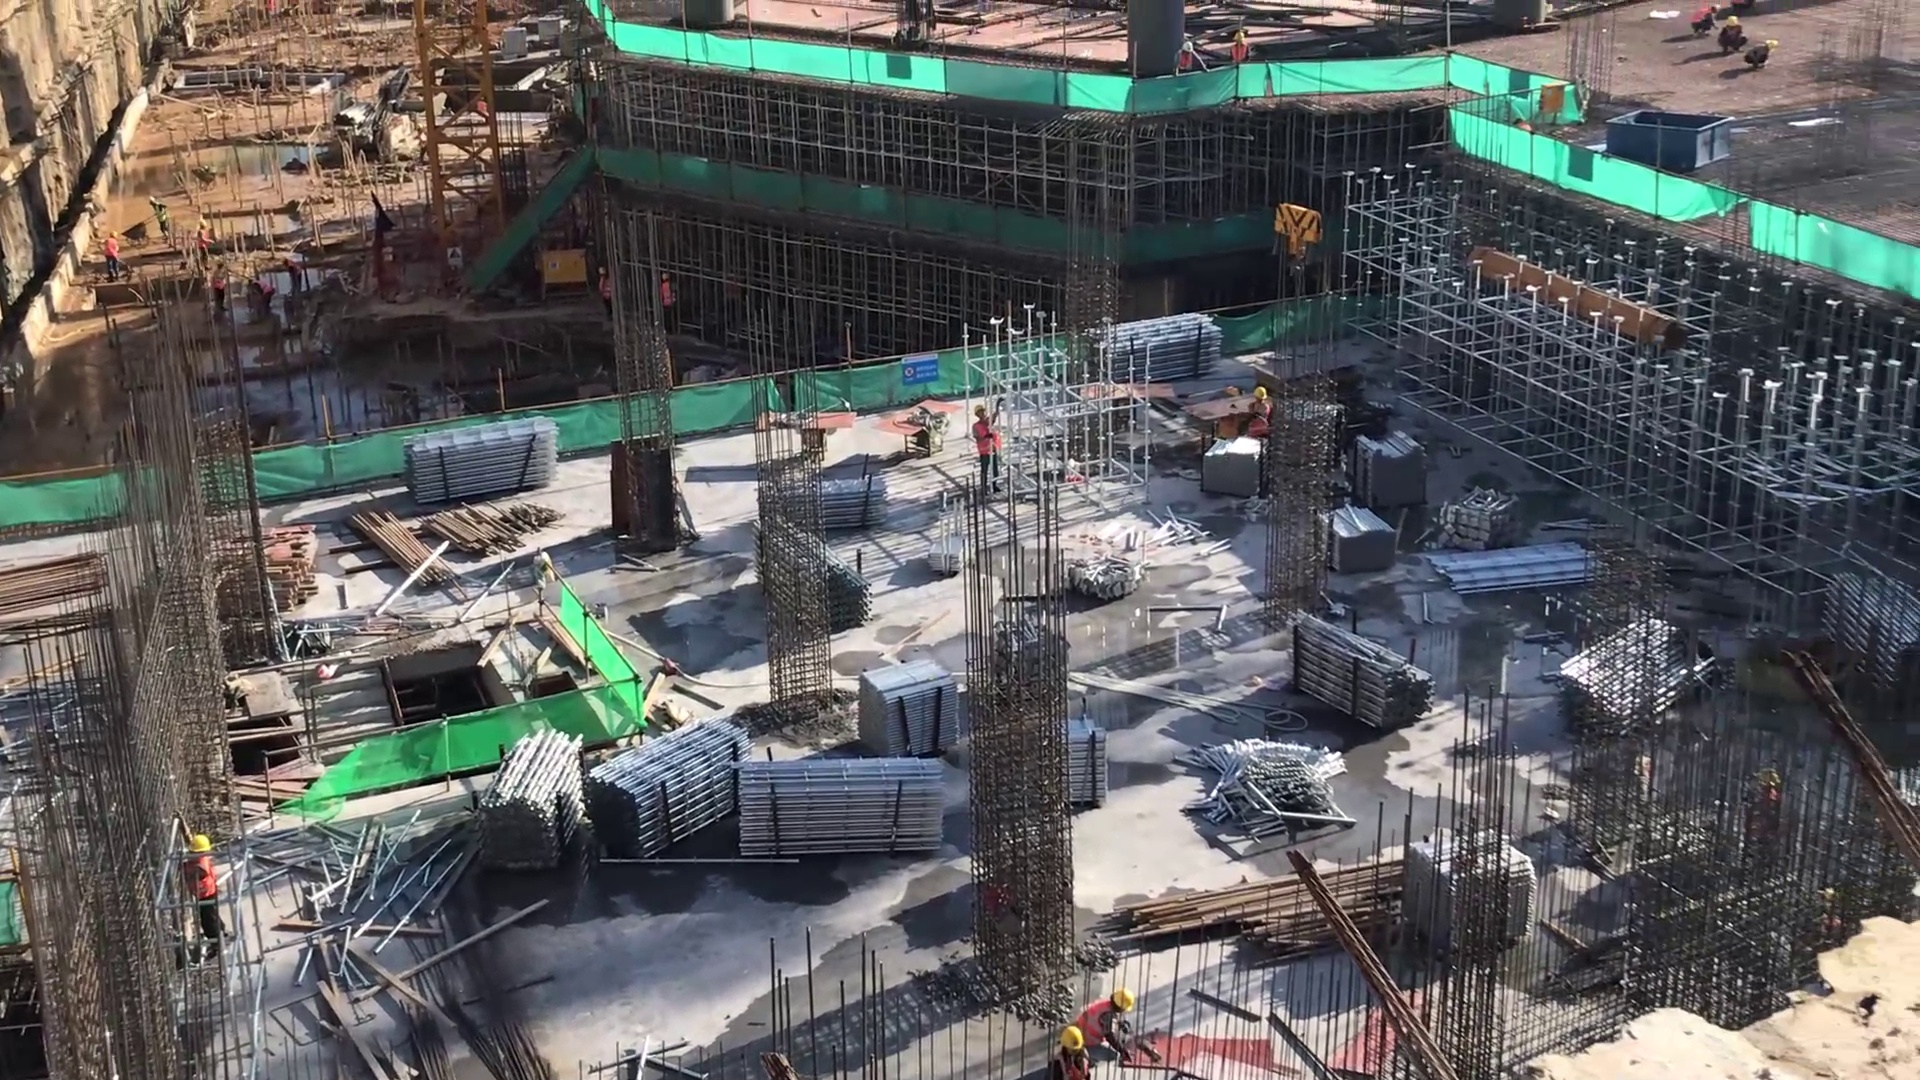cutter: (871, 395, 963, 459), (763, 409, 855, 462)
ebox: (531, 240, 596, 307)
helmet: (1054, 1024, 1089, 1056), (1107, 984, 1138, 1015), (184, 829, 212, 860), (1249, 386, 1272, 404), (970, 400, 987, 420)
hook: (1262, 193, 1326, 293)
hopper: (1598, 105, 1738, 176)
person: (173, 825, 233, 969), (1067, 977, 1142, 1061), (964, 396, 1007, 489), (1043, 1024, 1096, 1080), (1240, 383, 1277, 450)
scaffold: (586, 709, 764, 873), (735, 748, 947, 869), (475, 720, 600, 873), (1286, 606, 1431, 734), (397, 405, 567, 510), (854, 648, 963, 771), (1099, 305, 1233, 389), (1351, 424, 1432, 523), (1314, 503, 1401, 575), (1194, 424, 1269, 502), (811, 469, 894, 534)
vest: (179, 856, 222, 907), (1073, 997, 1116, 1047), (968, 422, 1004, 462), (1052, 1051, 1092, 1080), (1247, 403, 1272, 439)
